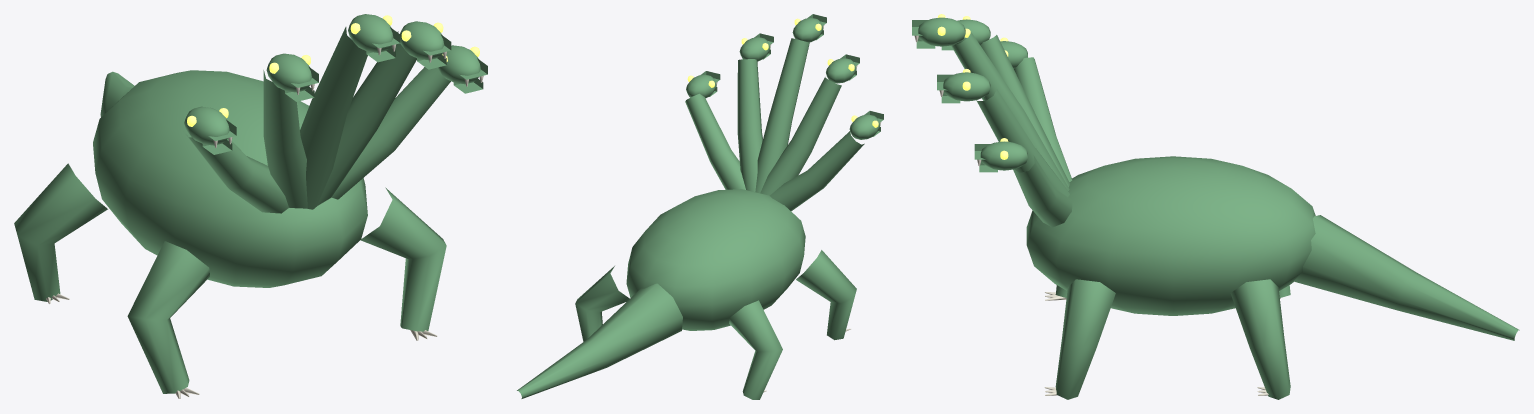
Rendered from hydra.glb.
3 renders of one model, left to right at view 1: azimuth 30°, elevation 25°; view 2: azimuth 150°, elevation 25°; view 3: azimuth 270°, elevation 25°, orthographic. The views are drawn at different scales.
Size of the model in its own units: 0.9554 by 1.16 by 1.94.
